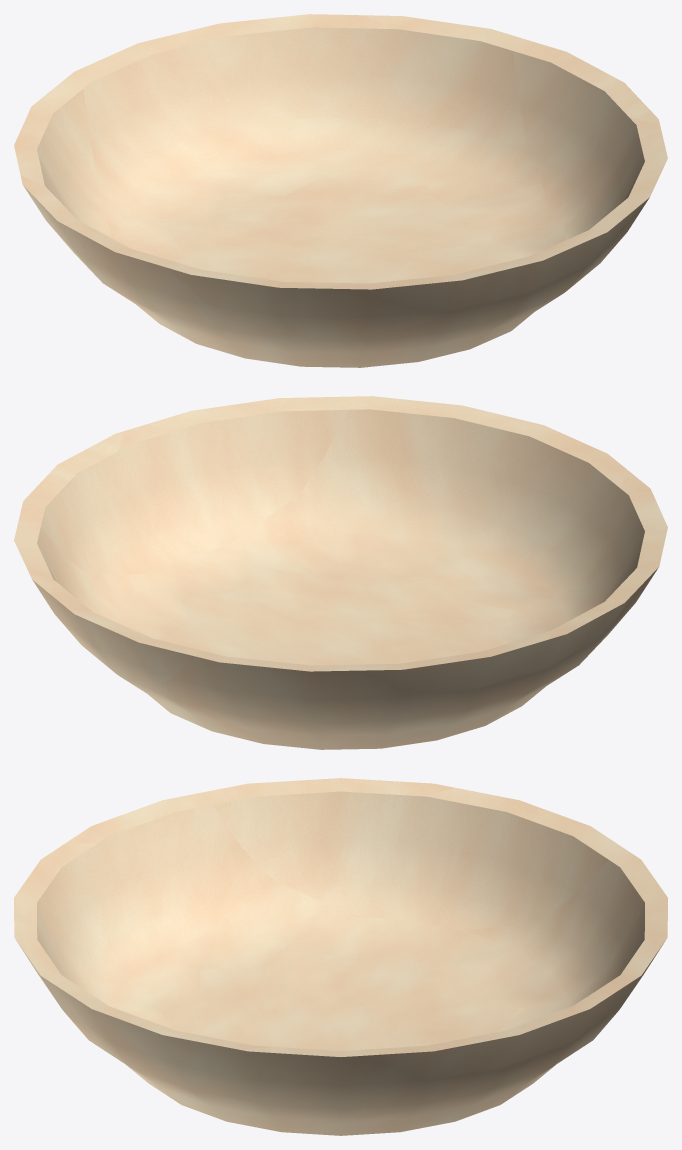
The model's file is bowl.FBX.
3 views of the same model, one above another, from view 1: azimuth 30°, elevation 25°; view 2: azimuth 150°, elevation 25°; view 3: azimuth 270°, elevation 25° (orthographic).
Visible parts, largest first — view 1: Cylinder001; view 2: Cylinder001; view 3: Cylinder001.
Part boxes in pixels (left/top/right/bottom): Cylinder001: left=14, top=14, right=667, bottom=367; Cylinder001: left=14, top=396, right=667, bottom=749; Cylinder001: left=14, top=778, right=667, bottom=1135.
Size of the model in its own units: 125 by 26.88 by 123.
Materials: 1 (1 with a texture image).
